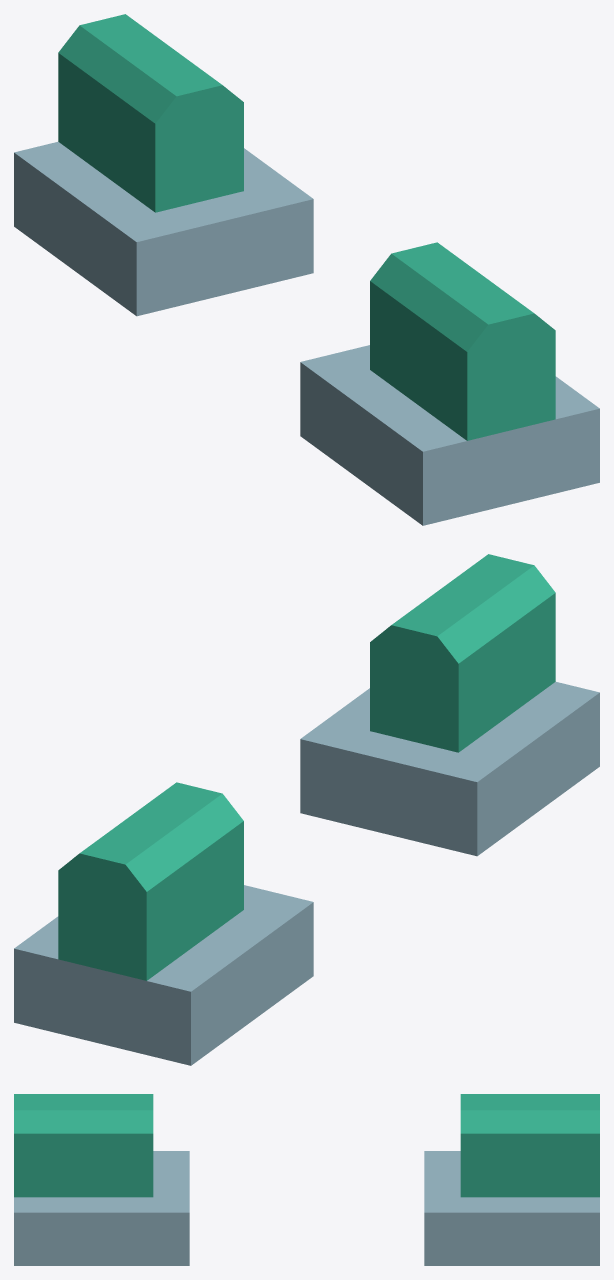
The model's file is hedgeGate.fbx.
3 views of the same model, one above another, from view 1: azimuth 30°, elevation 25°; view 2: azimuth 150°, elevation 25°; view 3: azimuth 270°, elevation 25° (orthographic). The views are drawn at different scales.
Visible parts, largest first — view 1: hedgeGate; view 2: hedgeGate; view 3: hedgeGate.
Part boxes in pixels (left/top/right/bottom): hedgeGate: left=14, top=14, right=599, bottom=525; hedgeGate: left=14, top=554, right=599, bottom=1065; hedgeGate: left=14, top=1094, right=599, bottom=1265.
Size of the model in its own units: 2.5 by 2.5 by 10.
